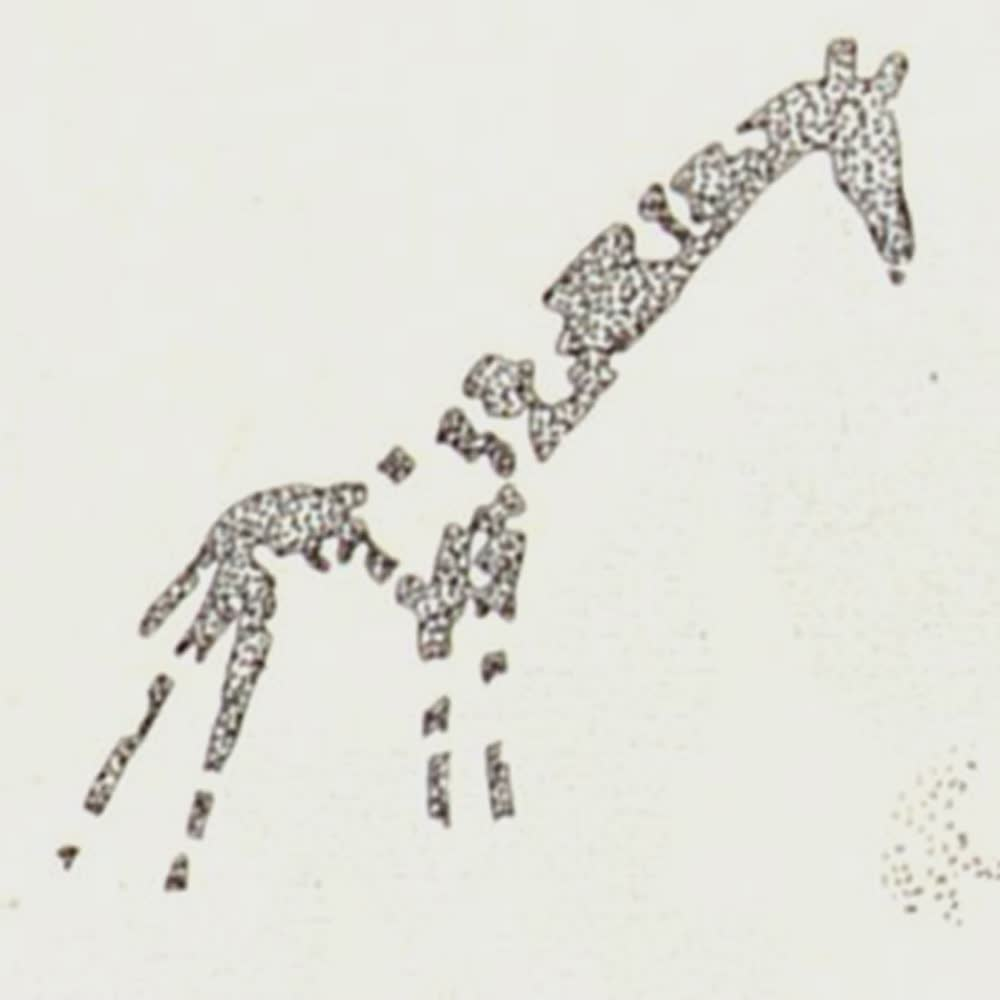animal: (48, 32, 917, 894)
